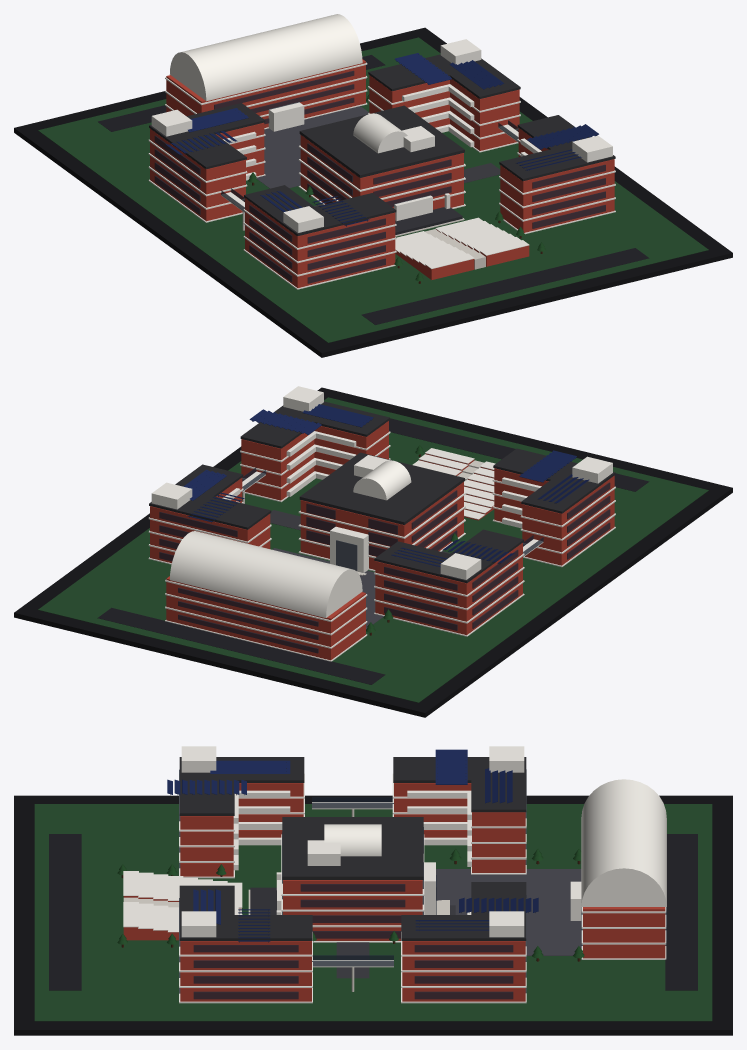
File: vvit-campus.glb
The picture shows the model from 3 angles, top to bottom: view 1: azimuth 30°, elevation 25°; view 2: azimuth 150°, elevation 25°; view 3: azimuth 270°, elevation 25°; orthographic projection. The views are drawn at different scales.
Parts seen in each view (by area): view 1: Campus_Lawn, Base_Plinth, H_Block, Roof_SlabB (×4), Roof_SlabA (×4), HB_Core, CB_Roof_Slab, South_Access_Road, WingB_F3 (×4), WingB_F2 (×4), Stair_Tower (×4), WingA_F3 (×3) (+25 smaller); view 2: Campus_Lawn, Base_Plinth, H_Block, HB_Core, Roof_SlabA (×4), Roof_SlabB (×4), CB_Roof_Slab, North_Access_Road, WingA_F3 (×4), Stair_Tower (×4), WingA_F2 (×3), WingB_F3 (×3) (+18 smaller); view 3: Campus_Lawn, Base_Plinth, H_Block, Roof_SlabB (×4), Roof_SlabA (×4), CB_Roof_Slab, Open_Plaza, South_Access_Road, North_Access_Road, WingA_F2 (×4), HB_Core, Stair_Tower (×4) (+38 smaller).
Part boxes in pixels (x1,y1,x2,y2): Campus_Lawn: (38, 37, 708, 342); Base_Plinth: (14, 27, 732, 357); H_Block: (169, 14, 362, 101); Roof_SlabB (×4): (154, 54, 615, 236); Roof_SlabA (×4): (149, 54, 614, 235); HB_Core: (166, 59, 365, 127); CB_Roof_Slab: (299, 105, 464, 177); South_Access_Road: (361, 248, 649, 324); WingB_F3 (×4): (150, 75, 614, 247); WingB_F2 (×4): (150, 89, 614, 260); Stair_Tower (×4): (151, 39, 612, 232); WingA_F3 (×3): (245, 79, 614, 247); Campus_Lawn: (38, 397, 708, 702); Base_Plinth: (14, 387, 732, 717); H_Block: (169, 531, 362, 617); HB_Core: (166, 576, 365, 660); Roof_SlabA (×4): (149, 401, 615, 583); Roof_SlabB (×4): (149, 402, 615, 582); CB_Roof_Slab: (299, 452, 464, 524); North_Access_Road: (97, 607, 385, 684); WingA_F3 (×4): (150, 421, 614, 594); Stair_Tower (×4): (151, 386, 612, 579); WingA_F2 (×3): (314, 434, 614, 608); WingB_F3 (×3): (150, 433, 522, 594); Campus_Lawn: (34, 804, 712, 1021); Base_Plinth: (14, 795, 732, 1035); H_Block: (581, 779, 666, 906); Roof_SlabB (×4): (179, 757, 526, 940); Roof_SlabA (×4): (179, 757, 526, 940); CB_Roof_Slab: (282, 817, 423, 879); Open_Plaza: (436, 869, 581, 955); South_Access_Road: (49, 834, 81, 990); North_Access_Road: (665, 834, 697, 990); WingA_F2 (×4): (180, 798, 525, 970); HB_Core: (583, 907, 665, 958); Stair_Tower (×4): (181, 746, 524, 937).
Size of the model in its own units: 135 by 25.4 by 175.
